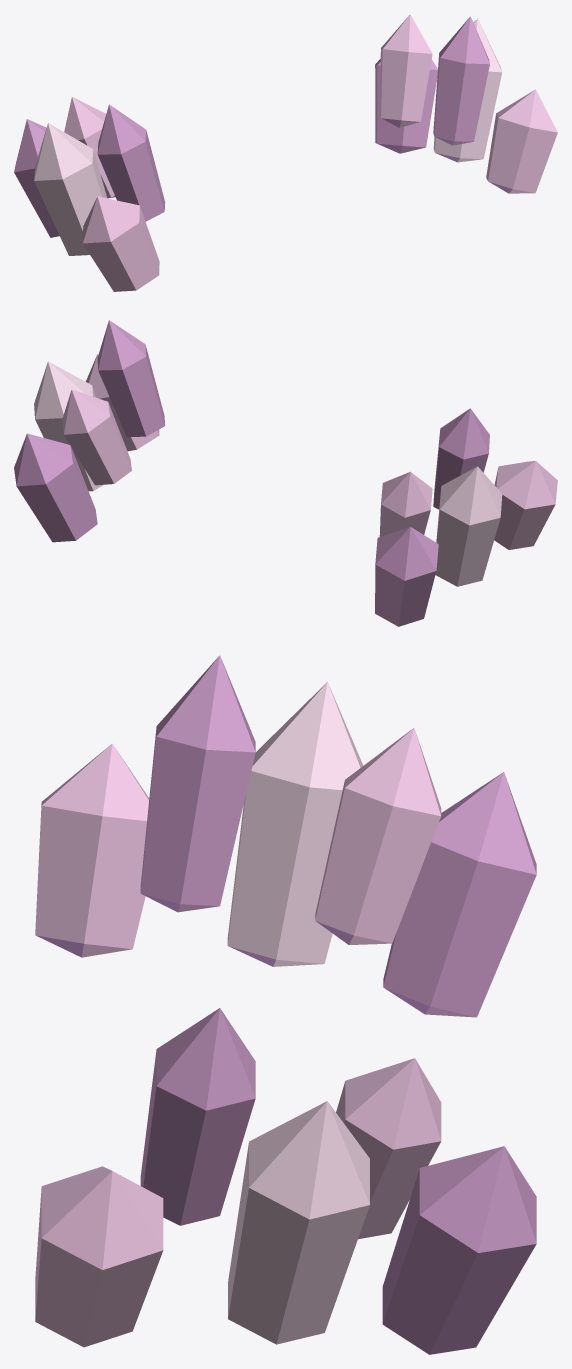
Rendered from quartz-og-v2-accessories.fbx.
3 views of the same model, one above another, from view 1: azimuth 30°, elevation 25°; view 2: azimuth 150°, elevation 25°; view 3: azimuth 270°, elevation 25° (orthographic). The views are drawn at different scales.
Visible parts, largest first — view 1: QuartzCluster_-1_2, QuartzCluster_-1_0, QuartzCluster_1_0, QuartzCluster_1_1, QuartzCluster_-1_1, QuartzCluster_1_3, QuartzCluster_1_2, QuartzCluster_1_4, QuartzCluster_-1_4, QuartzCluster_-1_3; view 2: QuartzCluster_-1_2, QuartzCluster_1_4, QuartzCluster_-1_4, QuartzCluster_1_1, QuartzCluster_1_3, QuartzCluster_-1_0, QuartzCluster_-1_1, QuartzCluster_1_2, QuartzCluster_-1_3, QuartzCluster_1_0; view 3: QuartzCluster_1_2, QuartzCluster_-1_2, QuartzCluster_1_4, QuartzCluster_-1_4, QuartzCluster_-1_1, QuartzCluster_-1_0, QuartzCluster_1_0, QuartzCluster_1_1, QuartzCluster_-1_3, QuartzCluster_1_3.
Part boxes in pixels (x1,y1,x2,y2): QuartzCluster_-1_2: (34,123,106,255); QuartzCluster_-1_0: (82,196,159,291); QuartzCluster_1_0: (486,89,557,193); QuartzCluster_1_1: (433,16,489,145); QuartzCluster_-1_1: (97,104,165,221); QuartzCluster_1_3: (379,14,432,127); QuartzCluster_1_2: (433,18,502,162); QuartzCluster_1_4: (375,59,437,153); QuartzCluster_-1_4: (14,119,59,237); QuartzCluster_-1_3: (64,97,115,198); QuartzCluster_-1_2: (435,466,502,586); QuartzCluster_1_4: (14,433,97,542); QuartzCluster_-1_4: (375,527,438,626); QuartzCluster_1_1: (97,320,164,437); QuartzCluster_1_3: (62,389,131,485); QuartzCluster_-1_0: (494,461,557,549); QuartzCluster_-1_1: (433,408,489,509); QuartzCluster_1_2: (34,361,103,491); QuartzCluster_-1_3: (379,471,432,536); QuartzCluster_1_0: (85,354,159,451); QuartzCluster_1_2: (228,1101,369,1344); QuartzCluster_-1_2: (227,682,363,966); QuartzCluster_1_4: (382,1146,536,1354); QuartzCluster_-1_4: (383,772,536,1017); QuartzCluster_-1_1: (140,655,255,912); QuartzCluster_-1_0: (35,743,149,957); QuartzCluster_1_0: (35,1166,163,1347); QuartzCluster_1_1: (140,1008,255,1225); QuartzCluster_-1_3: (315,728,441,944); QuartzCluster_1_3: (336,1058,441,1239).
Bounding box in the file's own units: 1152 × 404 × 529.
